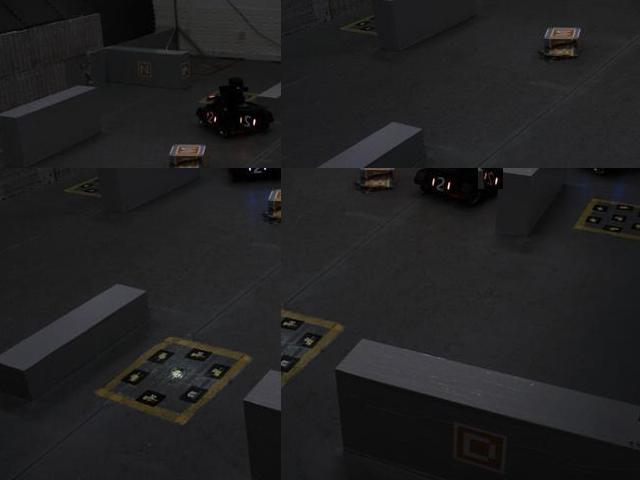armor: (424, 173, 454, 197), (478, 169, 504, 191), (236, 111, 263, 132), (201, 107, 220, 130), (243, 168, 271, 178)
